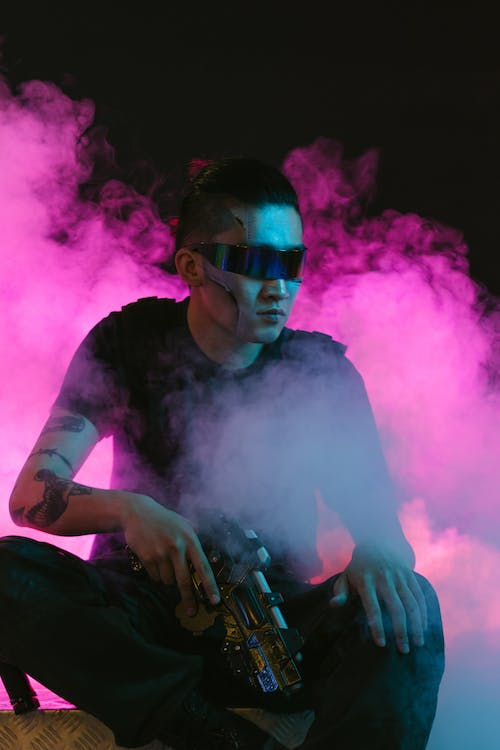gun: (191, 510, 311, 706)
